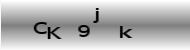9: (76, 23, 91, 38)
C: (33, 21, 47, 35)
K: (46, 26, 63, 41)
j: (91, 7, 100, 23)
k: (118, 23, 133, 39)
